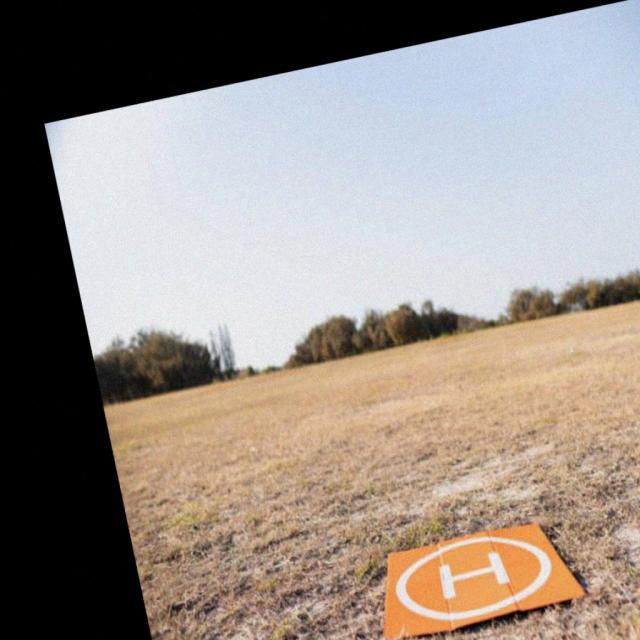helipad: (390, 533, 556, 623)
